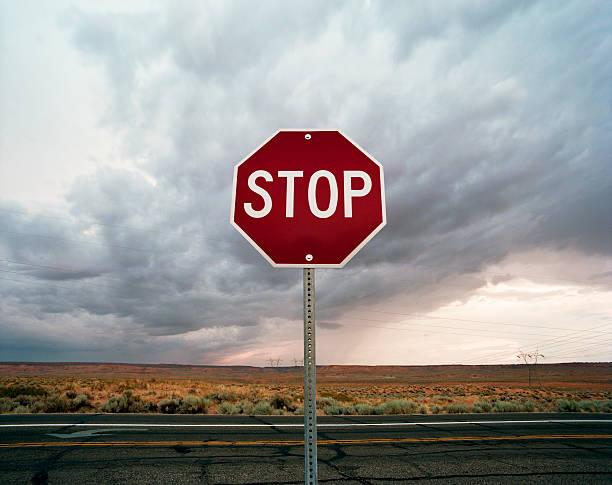Pole: (301, 267, 318, 484)
Sign: (234, 126, 386, 269)
